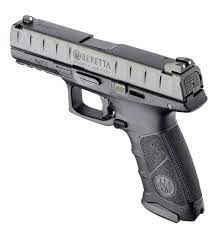gun: (9, 13, 210, 227)
